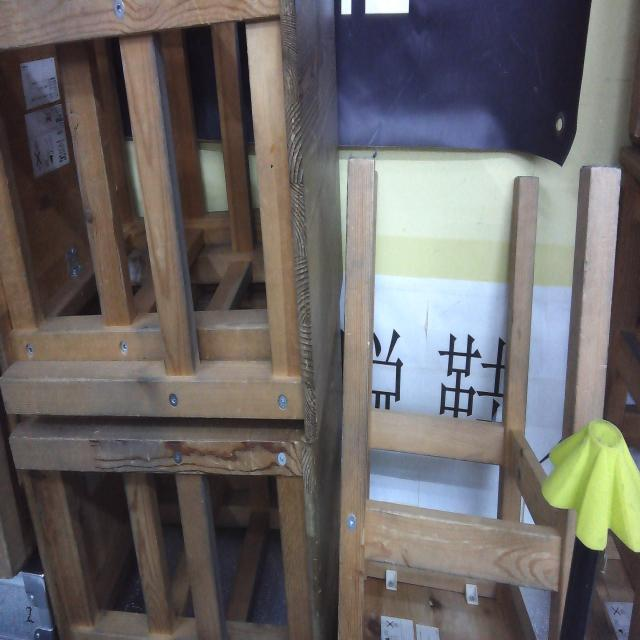Yellow-Stake-Head: (541, 418, 640, 554)
